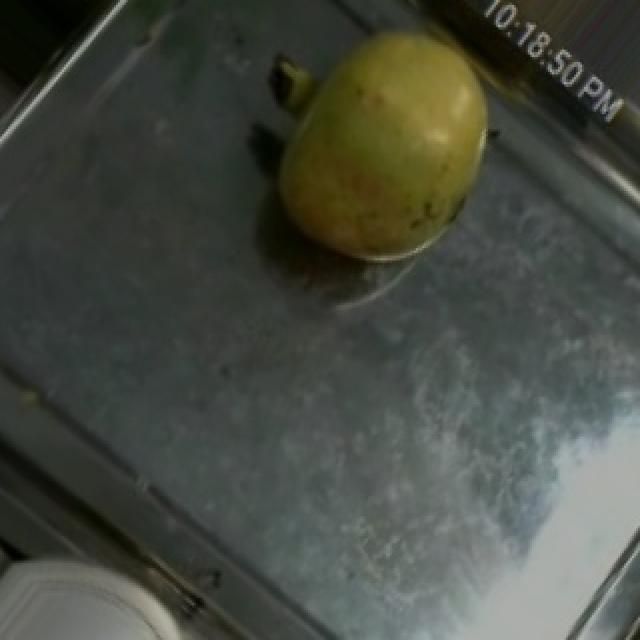fruit: (244, 10, 528, 298)
